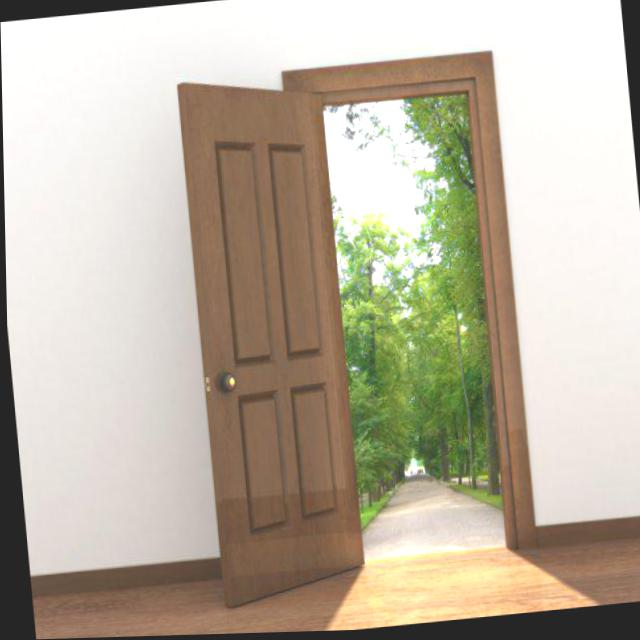open: (157, 5, 549, 614)
